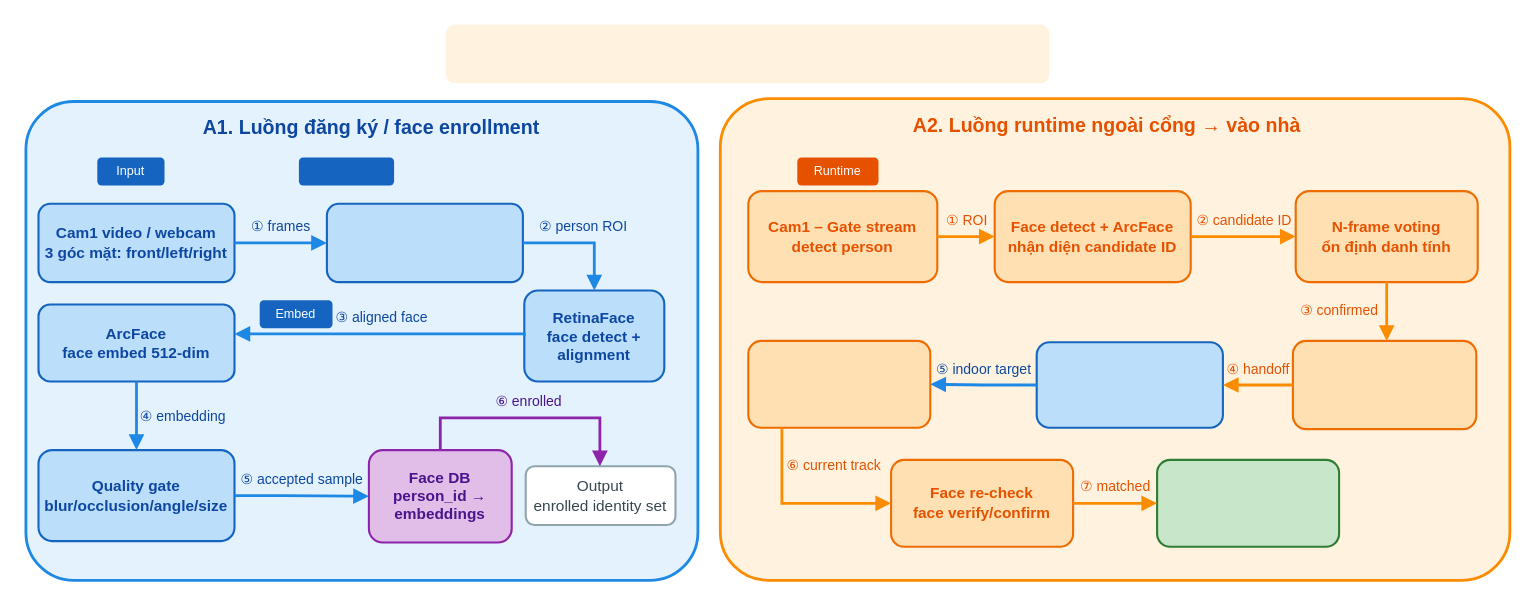
Some shapes in this 1534 by 605 pixel diagram are drawn without their labels. The box of each missing label's shape, as (x1, y1, x2, y2) in pixels:
Accepted indoor ID track_id → person_id: (1155, 458, 1340, 547)
Cam2 – Indoor verify re-detect người đi vào nhà: (1035, 341, 1223, 428)
ID handoff package candidate_id + score + ts: (1291, 339, 1477, 430)
Module A: Định danh Face (Cam1 → Cam2): (445, 24, 1049, 83)
Register: (298, 157, 393, 185)
Tracking DeepSORT / ByteTrack: (747, 339, 931, 428)
YOLO / Person ROI lọc vùng người hợp lệ: (325, 202, 523, 283)
